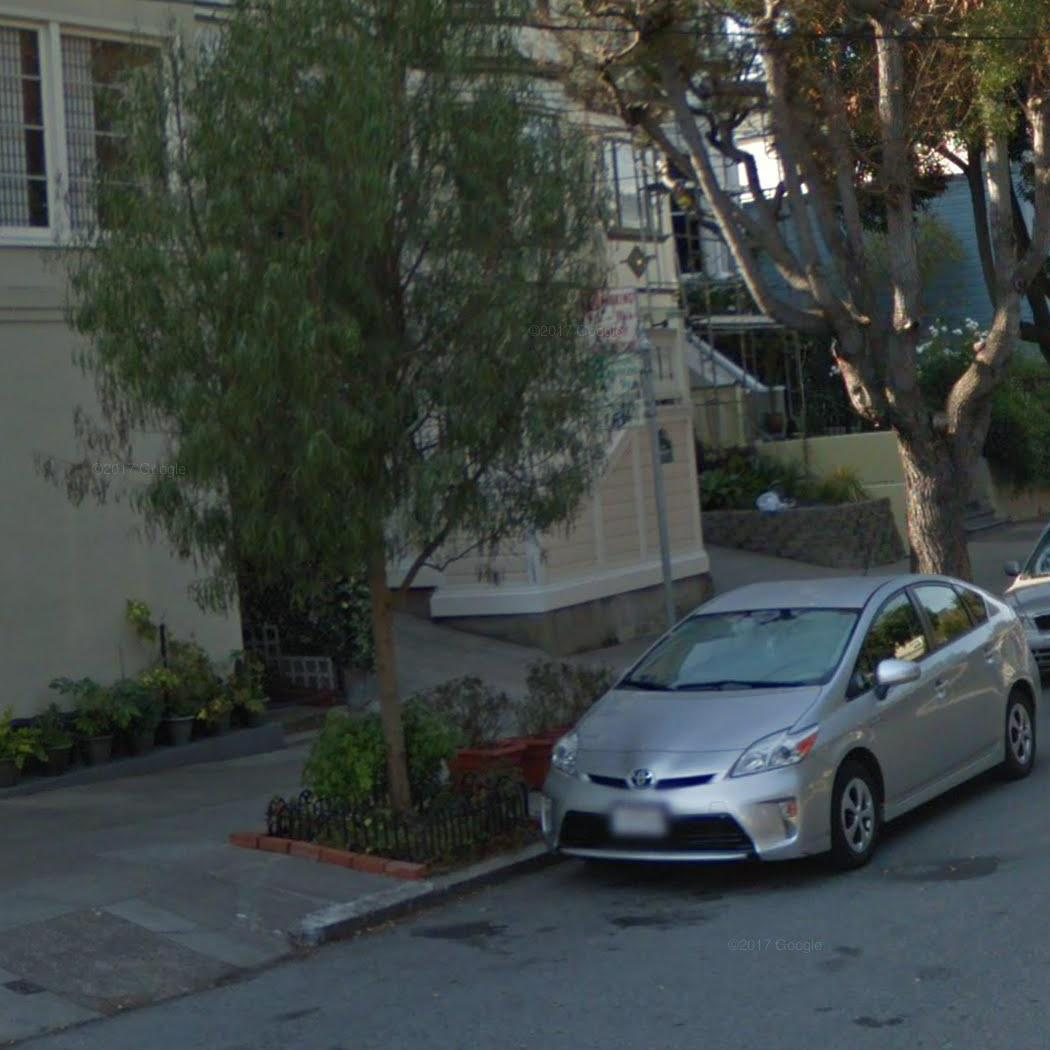2 Hour Parking: (580, 355, 649, 429)
No Parking: (578, 286, 641, 352)
